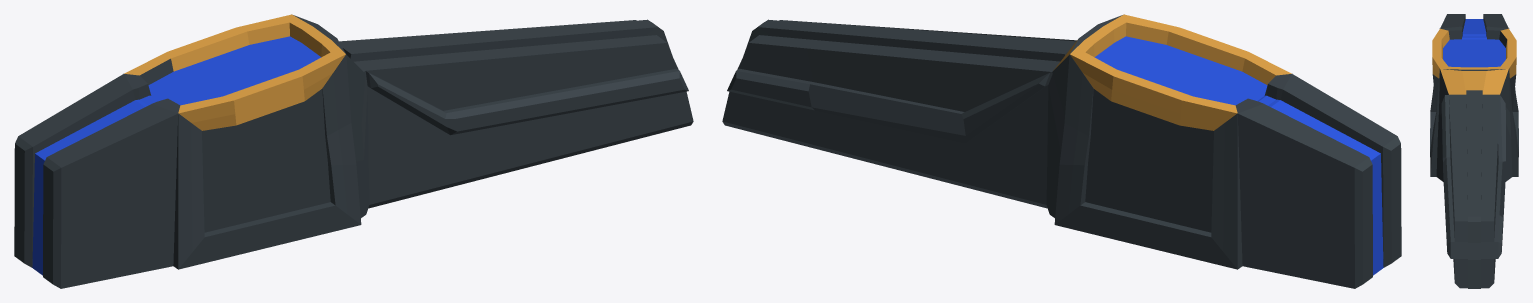
Rendered from TEMBOOK BETON ML EFEF.fbx.
3 renders of one model, left to right at view 1: azimuth 30°, elevation 25°; view 2: azimuth 150°, elevation 25°; view 3: azimuth 270°, elevation 25°, orthographic. The views are drawn at different scales.
Visible parts, largest first — view 1: Cube; view 2: Cube; view 3: Cube.
Boxes of the visible parts, x1,y1,x2,y2 form: Cube: (14, 14, 693, 288); Cube: (722, 14, 1401, 288); Cube: (1430, 14, 1518, 288).
Bounding box in the file's own units: 1746 × 438 × 325.
